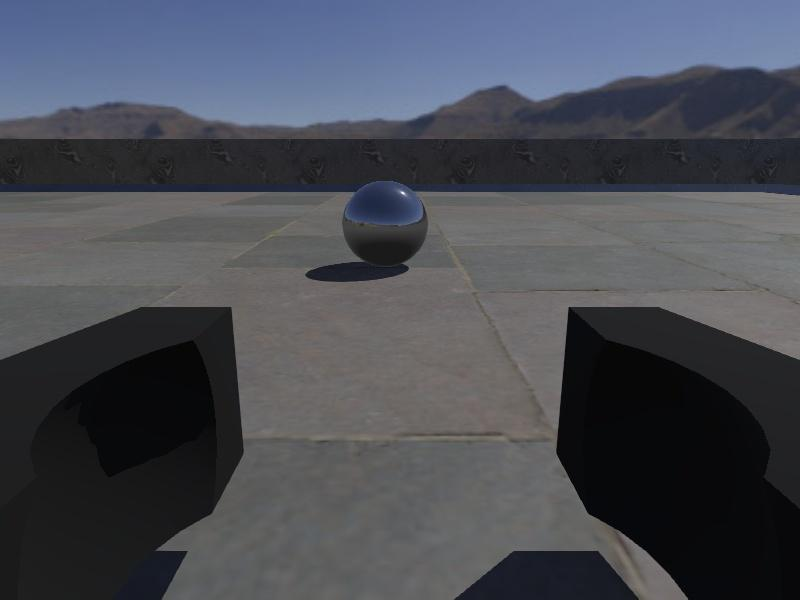steel ball: (341, 179, 429, 267)
